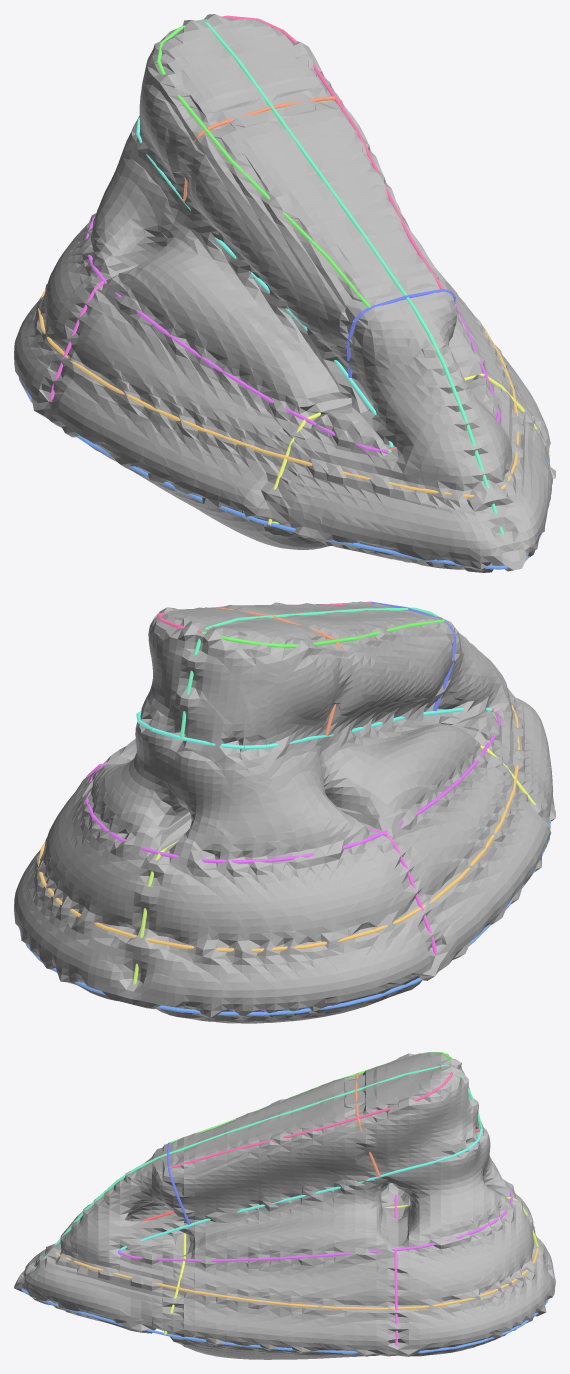
File: t2f_iron.gltf
3 views of the same model, one above another, from view 1: azimuth 30°, elevation 25°; view 2: azimuth 150°, elevation 25°; view 3: azimuth 270°, elevation 25° (orthographic). The views are drawn at different scales.
Size of the model in its own units: 0.486 by 0.4543 by 0.8181.
